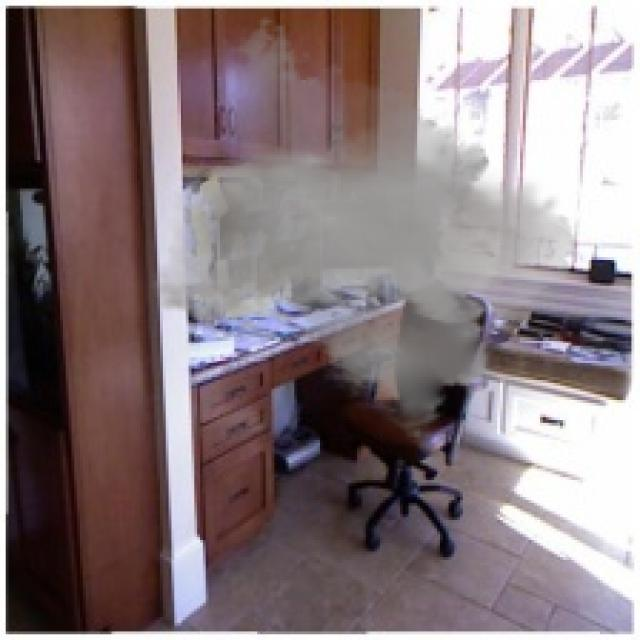smoke: (152, 14, 577, 440)
